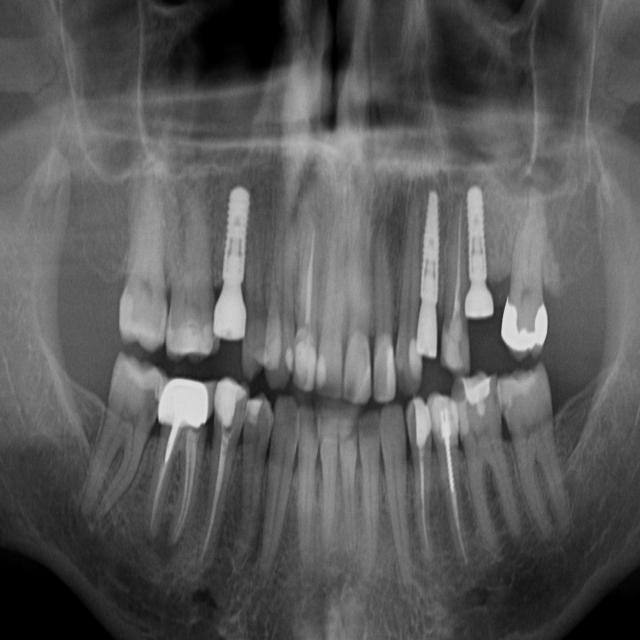dolgu: (203, 373, 266, 434), (280, 336, 336, 393), (426, 386, 465, 451), (460, 372, 498, 421), (399, 399, 435, 450), (373, 343, 404, 399)
implant: (413, 186, 448, 383), (216, 178, 253, 358), (460, 183, 505, 327)
kanal-tedavisi: (146, 419, 204, 540), (442, 186, 472, 329), (434, 434, 464, 552), (209, 422, 234, 556), (410, 436, 434, 563), (294, 239, 322, 328)
kaplama: (154, 364, 216, 438), (499, 297, 561, 362)
